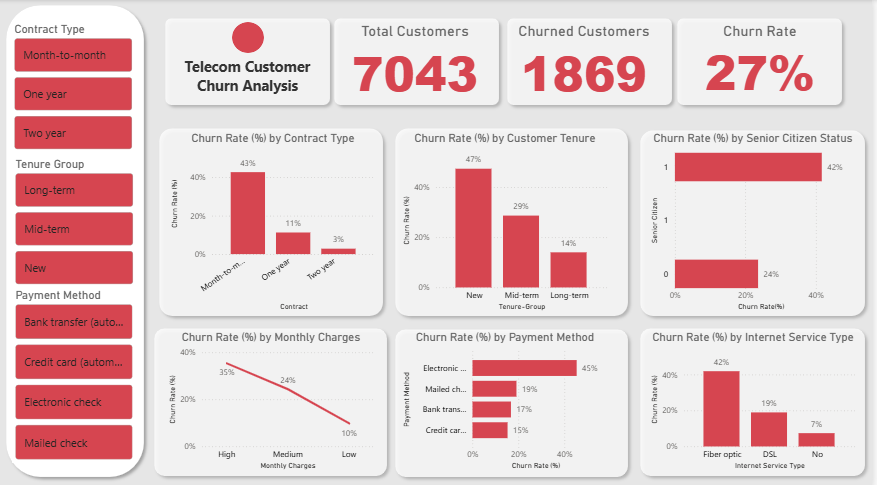

Layout of this report page (visuals, bound fields, positions):
{"tool":"powerbi","page":{"name":"Page 1","canvas":[1280,720],"ordinal":0},"visuals":[{"type":"shape","box":[0,0,220.4,711.2],"z":0},{"type":"shape","box":[233.6,19.1,260.1,145.5],"z":1000},{"type":"shape","box":[986,19.1,260.1,145.5],"z":2000},{"type":"shape","box":[736.2,19.1,260.1,145.5],"z":3000},{"type":"shape","box":[224.8,180.7,346.8,293.9],"z":4000},{"type":"shape","box":[571.6,180.7,360,293.9],"z":5000},{"type":"shape","box":[571.6,476.1,360,235.1],"z":6000},{"type":"shape","box":[931.6,183.7,348.2,290.9],"z":7000},{"type":"shape","box":[931.6,474.6,348.2,235.1],"z":8000},{"type":"textbox","box":[245.4,79.3,236.6,72],"z":9000},{"type":"shape","box":[340.9,33.8,47,45.6],"z":10000},{"type":"shape","box":[482,19.1,260.1,145.5],"z":11000},{"type":"card","title":"Total Customers","fields":{"Values":["public churn.Number of Customers"]},"box":[493.7,33.8,232.2,117.6],"z":12000},{"type":"card","title":"Churned Customers","fields":{"Values":["public churn.Churned Customers"]},"box":[742,33.8,232.2,117.6],"z":13000},{"type":"card","title":"Churn Rate","fields":{"Values":["public churn.Churn Rate (%)"]},"box":[1000.7,33.8,232.2,117.6],"z":14000},{"type":"shape","box":[217.5,474.6,360,235.1],"z":15000},{"type":"clusteredColumnChart","title":"Churn Rate (%) by Contract Type","fields":{"Category":["public churn.contract"],"Y":["public churn.Churn Rate (%)"]},"box":[245.4,194,311.5,268.9],"z":16000},{"type":"clusteredBarChart","title":"Churn Rate (%) by Senior Citizen Status","fields":{"Category":["public churn.senior_citizen"],"Y":["public churn.Churn Rate (%)"]},"box":[950.7,194,311.5,268.9],"z":17000},{"type":"lineChart","title":"Churn Rate (%) by Monthly Charges","fields":{"Y":["public churn.Churn Rate (%)"],"Category":["public churn.monthly_charges_group"]},"box":[242.4,486.4,311.5,210.1],"z":18000},{"type":"clusteredBarChart","title":"Churn Rate (%) by Payment Method","fields":{"Y":["public churn.Churn Rate (%)"],"Category":["public churn.payment_method"]},"box":[586.3,486.4,311.5,210.1],"z":19000},{"type":"clusteredColumnChart","title":"Churn Rate (%) by Internet Service Type","fields":{"Category":["public churn.internet_service"],"Y":["public churn.Churn Rate (%)"]},"box":[950.7,486.4,311.5,210.1],"z":20000},{"type":"clusteredColumnChart","title":"Churn Rate (%) by Customer Tenure","fields":{"Category":["public churn.tenure_group"],"Y":["public churn.Churn Rate (%)"]},"box":[586.3,194,311.5,268.9],"z":21000},{"type":"advancedSlicerVisual","title":"Contract Type","fields":{"Values":["public churn.contract"]},"box":[16.2,33.8,183.7,192.5],"z":21001},{"type":"advancedSlicerVisual","title":"Tenure Group","fields":{"Values":["public churn.tenure_group"]},"box":[17.6,232.2,183.7,192.5],"z":21002},{"type":"advancedSlicerVisual","title":"Payment Method","fields":{"Values":["public churn.payment_method"]},"box":[17.6,424.7,182.2,257.1],"z":21003}]}

Visuals, with their boxes in screenshot pixels (x1, y1, x2, y2), scaled from the page's 1280x720 canvas onto the 877x485 screenshot:
shape: (left=0, top=0, right=151, bottom=479)
shape: (left=160, top=13, right=338, bottom=111)
shape: (left=676, top=13, right=854, bottom=111)
shape: (left=504, top=13, right=683, bottom=111)
shape: (left=154, top=122, right=392, bottom=320)
shape: (left=392, top=122, right=638, bottom=320)
shape: (left=392, top=321, right=638, bottom=479)
shape: (left=638, top=124, right=876, bottom=320)
shape: (left=638, top=320, right=876, bottom=478)
textbox: (left=168, top=53, right=330, bottom=102)
shape: (left=234, top=23, right=266, bottom=53)
shape: (left=330, top=13, right=508, bottom=111)
"Total Customers" card: (left=338, top=23, right=497, bottom=102)
"Churned Customers" card: (left=508, top=23, right=667, bottom=102)
"Churn Rate" card: (left=686, top=23, right=845, bottom=102)
shape: (left=149, top=320, right=396, bottom=478)
"Churn Rate (%) by Contract Type" clusteredColumnChart: (left=168, top=131, right=382, bottom=312)
"Churn Rate (%) by Senior Citizen Status" clusteredBarChart: (left=651, top=131, right=865, bottom=312)
"Churn Rate (%) by Monthly Charges" lineChart: (left=166, top=328, right=380, bottom=469)
"Churn Rate (%) by Payment Method" clusteredBarChart: (left=402, top=328, right=615, bottom=469)
"Churn Rate (%) by Internet Service Type" clusteredColumnChart: (left=651, top=328, right=865, bottom=469)
"Churn Rate (%) by Customer Tenure" clusteredColumnChart: (left=402, top=131, right=615, bottom=312)
"Contract Type" advancedSlicerVisual: (left=11, top=23, right=137, bottom=152)
"Tenure Group" advancedSlicerVisual: (left=12, top=156, right=138, bottom=286)
"Payment Method" advancedSlicerVisual: (left=12, top=286, right=137, bottom=459)
